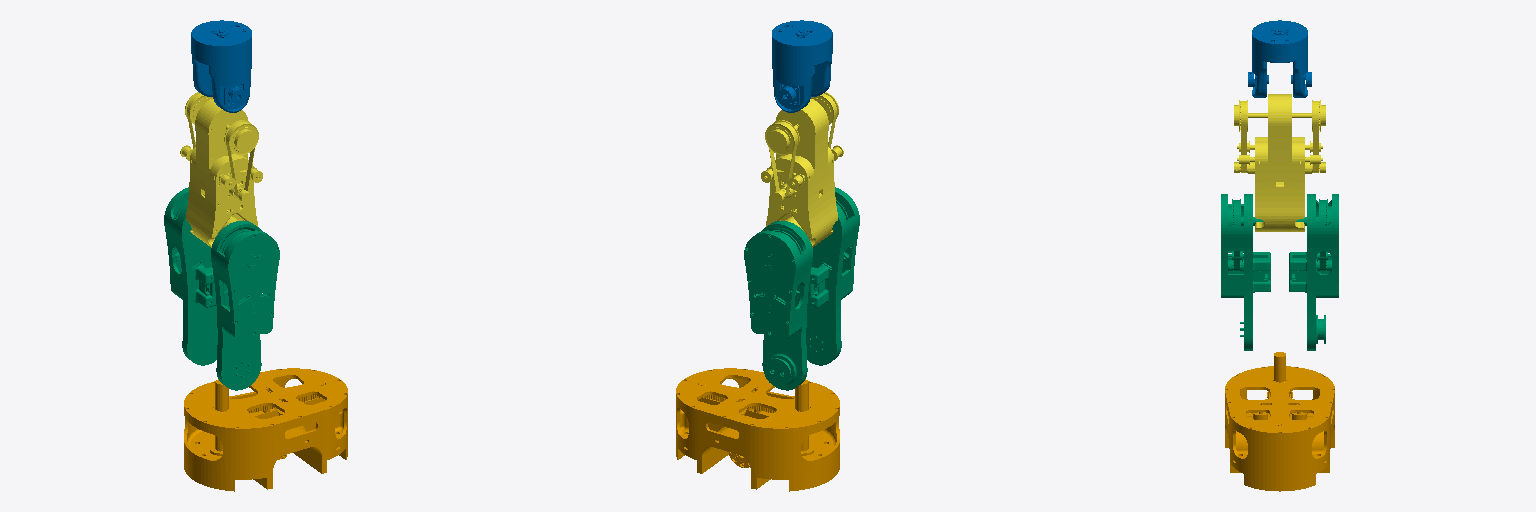
The robot description file, URDF, robot "robot_arm_5axis":
<?xml version="1.0"?>
<robot name="robot_arm_5axis">

  <link name="link1">
    <visual>
      <origin xyz="0 0 0" rpy="0 0 0"/>
      <geometry>
        <mesh filename="package://robot_description/meshes_robot_5axis/link1.stl" scale="0.001 0.001 0.001"/>
      </geometry>
    </visual>
  </link>

  <link name="link2">
    <visual>
      <origin xyz="0 0 0" rpy="0 0 0"/>
      <geometry>
        <mesh filename="package://robot_description/meshes_robot_5axis/link2.stl" scale="0.001 0.001 0.001"/>
      </geometry>
    </visual>
    <inertial>
      <mass value="0.3"/>
      <inertia ixx="1e-3" iyy="1e-3" izz="1e-3" ixy="0" ixz="0" iyz="0"/>
    </inertial>
  </link>

  <link name="link3">
    <visual>
      <origin xyz="0 0 0" rpy="0 0 0"/>
      <geometry>
        <mesh filename="package://robot_description/meshes_robot_5axis/link3.stl" scale="0.001 0.001 0.001"/>
      </geometry>
    </visual>
    <inertial>
      <mass value="0.3"/>
      <inertia ixx="1e-3" iyy="1e-3" izz="1e-3" ixy="0" ixz="0" iyz="0"/>
    </inertial>
  </link>

  <link name="link4">
    <visual>
      <origin xyz="0 0 0" rpy="0 0 0"/>
      <geometry>
        <mesh filename="package://robot_description/meshes_robot_5axis/link4.stl" scale="0.001 0.001 0.001"/>
      </geometry>
    </visual>
    <inertial>
      <mass value="0.2"/>
      <inertia ixx="1e-3" iyy="1e-3" izz="1e-3" ixy="0" ixz="0" iyz="0"/>
    </inertial>
  </link>

  <link name="link5">
    <visual>
      <origin xyz="0 0 0" rpy="0 0 0"/>
      <geometry>
        <mesh filename="package://robot_description/meshes_robot_5axis/link5.stl" scale="0.001 0.001 0.001"/>
      </geometry>
    </visual>
    <inertial>
      <mass value="0.1"/>
      <inertia ixx="5e-4" iyy="5e-4" izz="5e-4" ixy="0" ixz="0" iyz="0"/>
    </inertial>
  </link>

  <joint name="joint1" type="revolute">
    <parent link="link1"/>
    <child link="link2"/>
    <origin xyz="-0.0945 0 0.105" rpy="0 0 0"/>
    <axis xyz="0 0 1"/>
    <limit lower="-3.14" upper="3.14" effort="10" velocity="1"/>
  </joint>

  <joint name="joint2" type="revolute">
    <parent link="link2"/>
    <child link="link3"/>
    <origin xyz="0 0 0.09" rpy="0 0 0"/>
    <axis xyz="0 1 0"/>
    <limit lower="-3.14" upper="3.14" effort="10" velocity="1"/>
  </joint>

  <joint name="joint3" type="revolute">
    <parent link="link3"/>
    <child link="link4"/>
    <origin xyz="0 0 0.22" rpy="0 0 0"/>
    <axis xyz="0 1 0"/>
    <limit lower="-3.14" upper="3.14" effort="10" velocity="1"/>
  </joint>

  <joint name="joint4" type="revolute">
    <parent link="link4"/>
    <child link="link5"/>
    <origin xyz="0 0 0.23" rpy="0 0 0"/>
    <axis xyz="0 1 0"/>
    <limit lower="-3.14" upper="3.14" effort="10" velocity="1"/>
  </joint>

</robot>

--- Facts derived from the render (not from the file) ---
Views: 3 orthographic renders of the robot side by side, from view 1: azimuth 30°, elevation 25°; view 2: azimuth 150°, elevation 25°; view 3: azimuth 270°, elevation 25°.
Robot: robot_arm_5axis — 5 links, 4 joints (4 revolute); root link link1; default pose: every joint at zero.
Links seen in each view (by area): view 1: link1, link3, link4, link5; view 2: link1, link3, link4, link5; view 3: link1, link3, link4, link5.
Boxes of the visible links, x1,y1,x2,y2 form: link1: [184, 368, 347, 491]; link3: [164, 187, 279, 390]; link4: [180, 92, 262, 247]; link5: [191, 20, 251, 112]; link1: [676, 368, 839, 491]; link3: [744, 187, 859, 390]; link4: [761, 92, 843, 247]; link5: [772, 20, 832, 112]; link1: [1225, 352, 1334, 491]; link3: [1221, 194, 1338, 350]; link4: [1234, 94, 1325, 231]; link5: [1248, 20, 1311, 97].
Bounding box of the posed robot: 0.2595 × 0.194 × 0.7359 m (x, y, z).
4 mesh visuals loaded from 5 distinct referenced files (4 binary STL); not drawn: 1 (reference not matched to a file when rendering).
